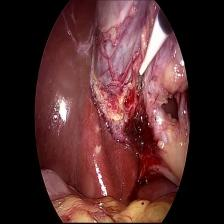Hook: (135, 9, 169, 97)
